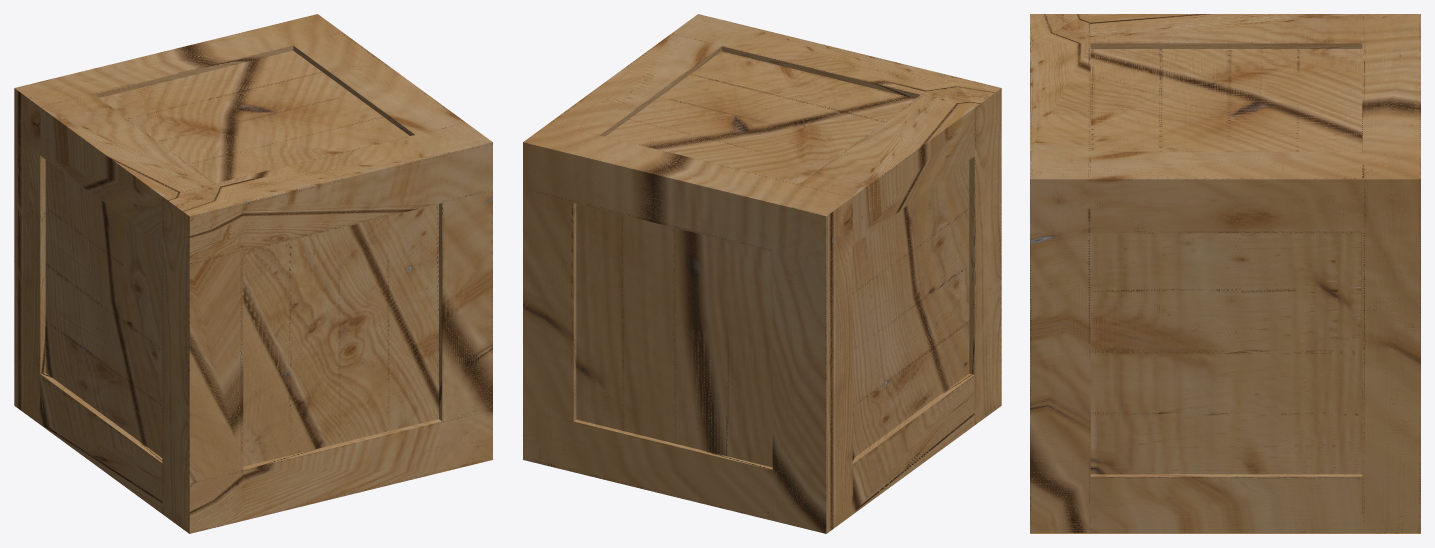
File: WoodenCrate_Will.obj
The picture shows the model from 3 angles, left to right: view 1: azimuth 30°, elevation 25°; view 2: azimuth 150°, elevation 25°; view 3: azimuth 270°, elevation 25°; orthographic projection. The views are drawn at different scales.
Visible parts, largest first — view 1: Cube.000_Cube.003; view 2: Cube.000_Cube.003; view 3: Cube.000_Cube.003.
Boxes of the visible parts, box(x1,y1,x2,y2) form: Cube.000_Cube.003: box(14, 14, 493, 533); Cube.000_Cube.003: box(522, 14, 1001, 533); Cube.000_Cube.003: box(1030, 14, 1420, 533).
Bounding box in the file's own units: 87.82 × 87.66 × 87.62.
